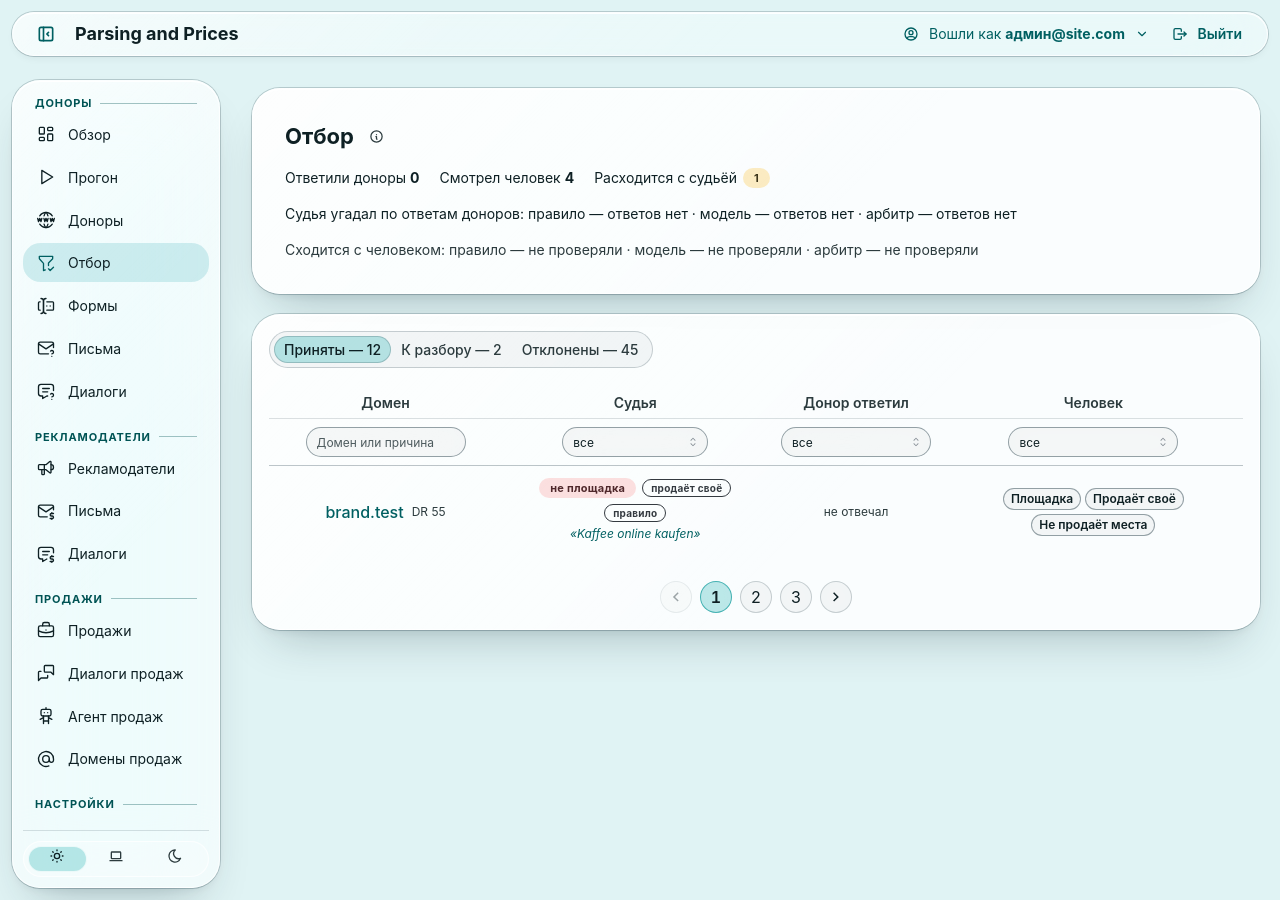
it: отбор: страницы › по двадцать: размер называет сервер, страница уходит номером
Check: the link "brand.test" is shown, box x1=326 y1=500 x2=404 y2=525
Check: the button named "Страница 3" is shown, box x1=780 y1=581 x2=812 y2=613
What coordinates should you click on to do the following:
click the button named "Страница 2"
I would click on:
 (756, 597)
Its box is x1=740 y1=581 x2=772 y2=613.
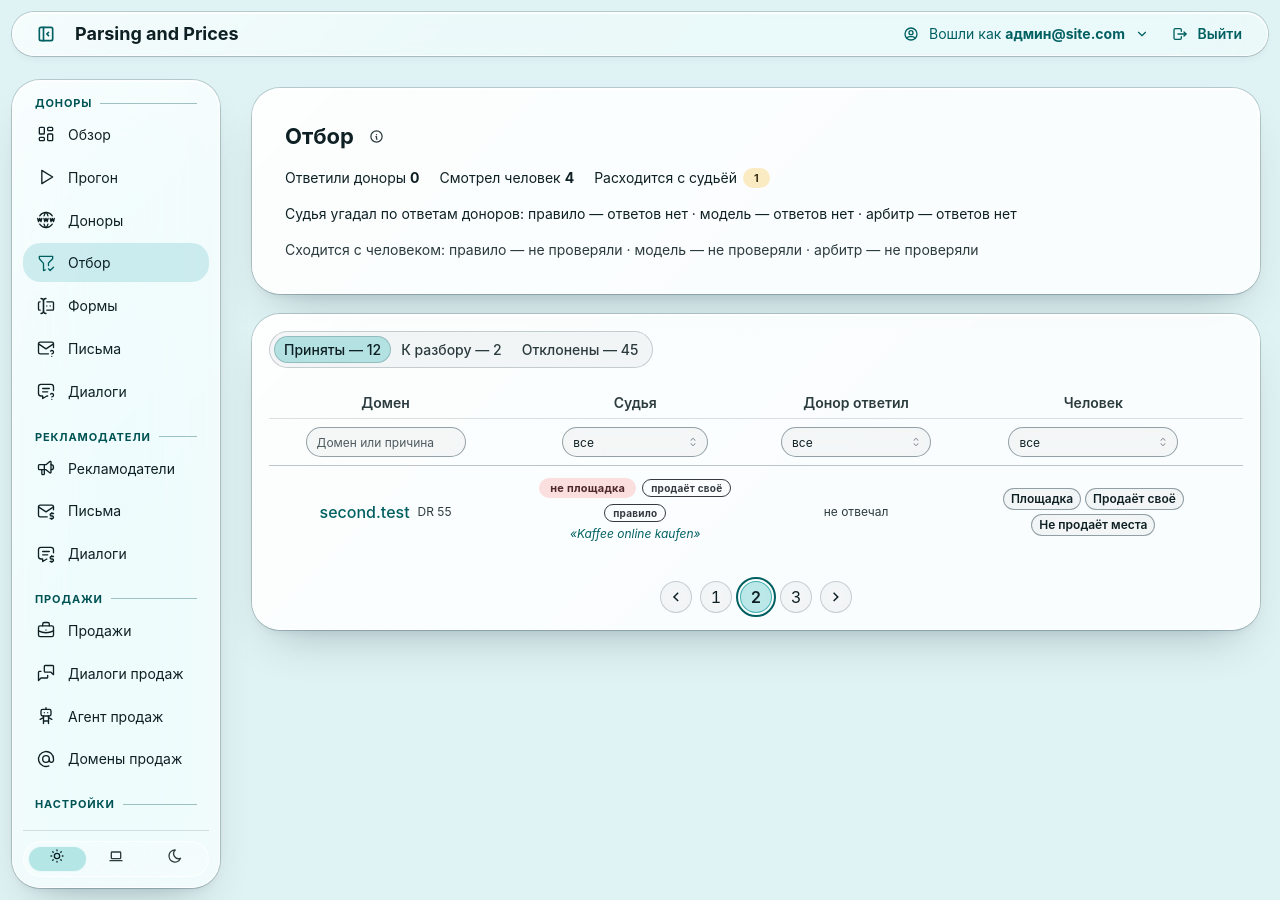
Check: the link "second.test" is shown, box x1=320 y1=500 x2=410 y2=525
